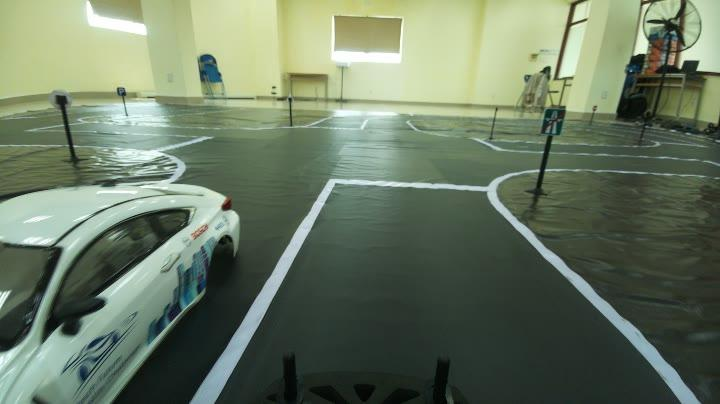car: (2, 155, 241, 404)
highway_exit: (538, 100, 574, 146)
